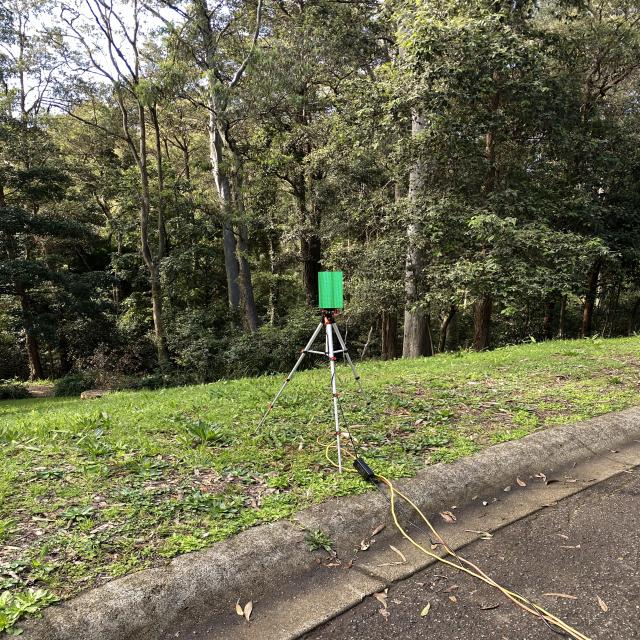matrix: (312, 267, 350, 314)
